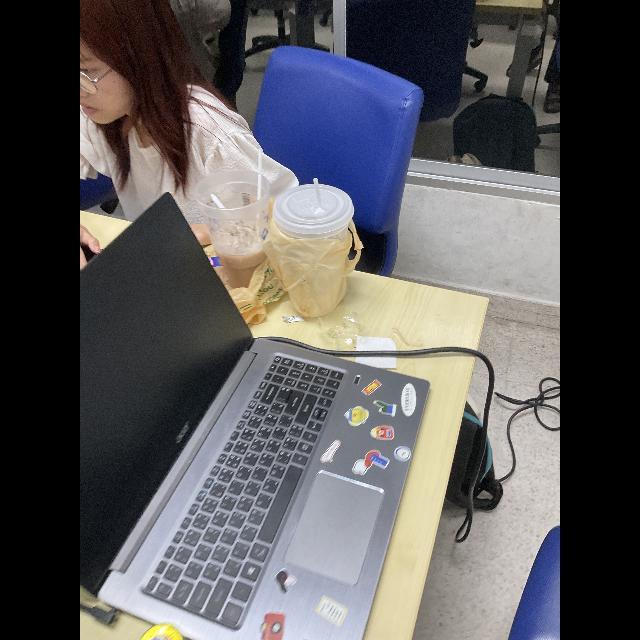plastic_bag: (272, 225, 366, 318), (216, 253, 286, 323)
plastic_bottle: (200, 162, 278, 290)
plastic_cup_lid: (274, 179, 356, 245)
scrap_paper: (354, 332, 402, 372)
scrap_plastic: (319, 314, 366, 352)
straw: (309, 176, 329, 214), (250, 147, 262, 206)
